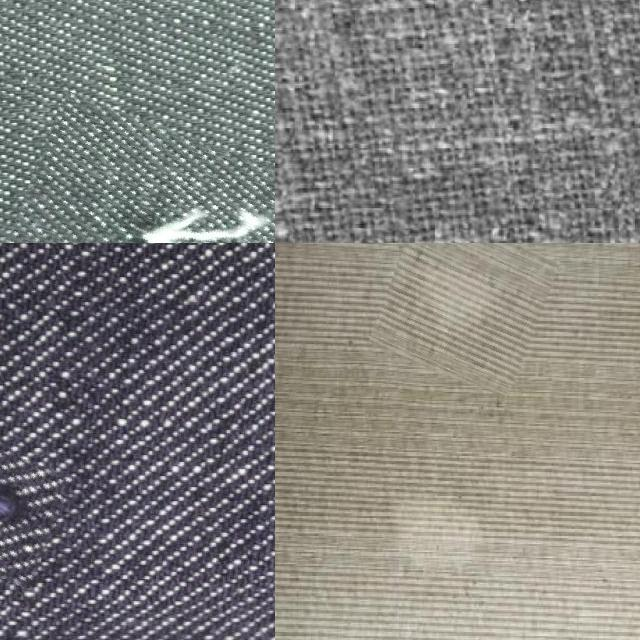Thread_other: (348, 453, 543, 588), (377, 243, 549, 387)
stains: (0, 112, 275, 243), (0, 443, 63, 579)
